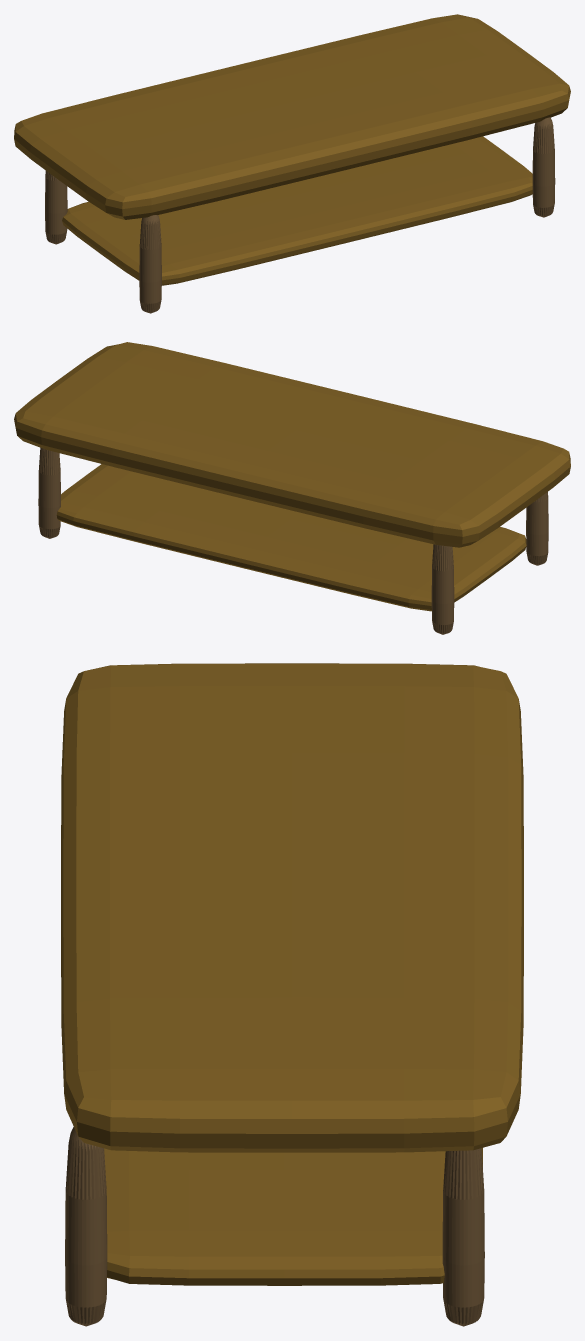
Rendered from tzble.fbx.
3 renders of one model, top to bottom at view 1: azimuth 30°, elevation 25°; view 2: azimuth 150°, elevation 25°; view 3: azimuth 270°, elevation 25°, orthographic. The views are drawn at different scales.
Visible parts, largest first — view 1: Cube.001, Cube.002, Cylinder.001, Cylinder.003, Cylinder; view 2: Cube.001, Cube.002, Cylinder, Cylinder.002, Cylinder.001; view 3: Cube.001, Cube.002, Cylinder.003, Cylinder.002.
Boxes of the visible parts, x1,y1,x2,y2 form: Cube.001: (14,14,570,219); Cube.002: (62,136,532,285); Cylinder.001: (139,215,161,313); Cylinder.003: (532,117,555,217); Cylinder: (45,170,67,244); Cube.001: (14,342,570,547); Cube.002: (56,464,526,611); Cylinder: (431,544,454,634); Cylinder.002: (38,447,60,538); Cylinder.001: (526,492,548,565); Cube.001: (61,663,523,1152); Cube.002: (104,1148,482,1285); Cylinder.003: (65,1127,107,1326); Cylinder.002: (442,1148,484,1326).
Bounding box in the file's own units: 1653 × 426 × 705.
